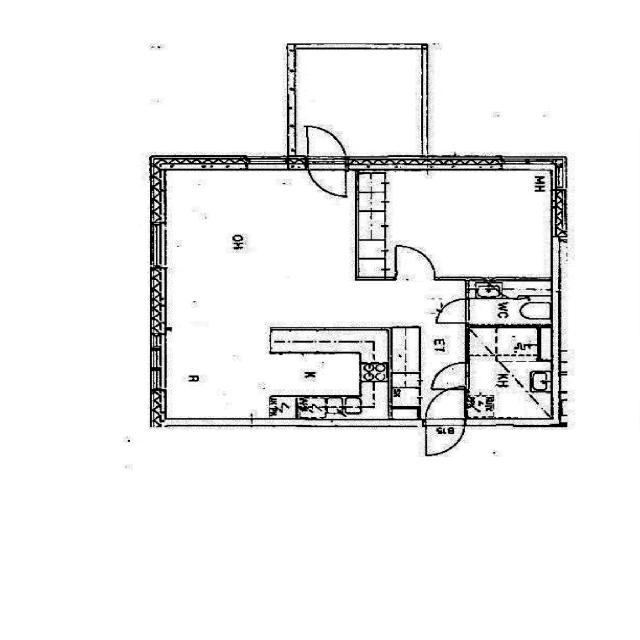door: (308, 156, 346, 201), (308, 125, 346, 170), (425, 386, 464, 426), (425, 418, 464, 457), (396, 245, 434, 280), (432, 362, 469, 389), (437, 299, 469, 322)
